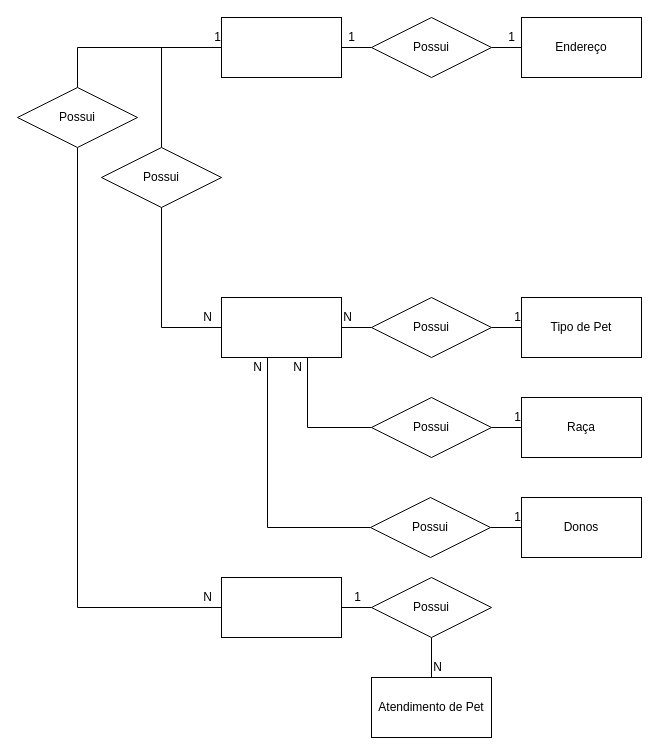
The diagram is 659 pixels wide and 755 high, and some of its shapes have lost their labels. Here are the shapes that lost their labels. From the top down, the centre of each, then its label:
At (x=281, y=47): "Clinica".
At (x=281, y=327): "Pets".
At (x=281, y=607): "Veterinario".
